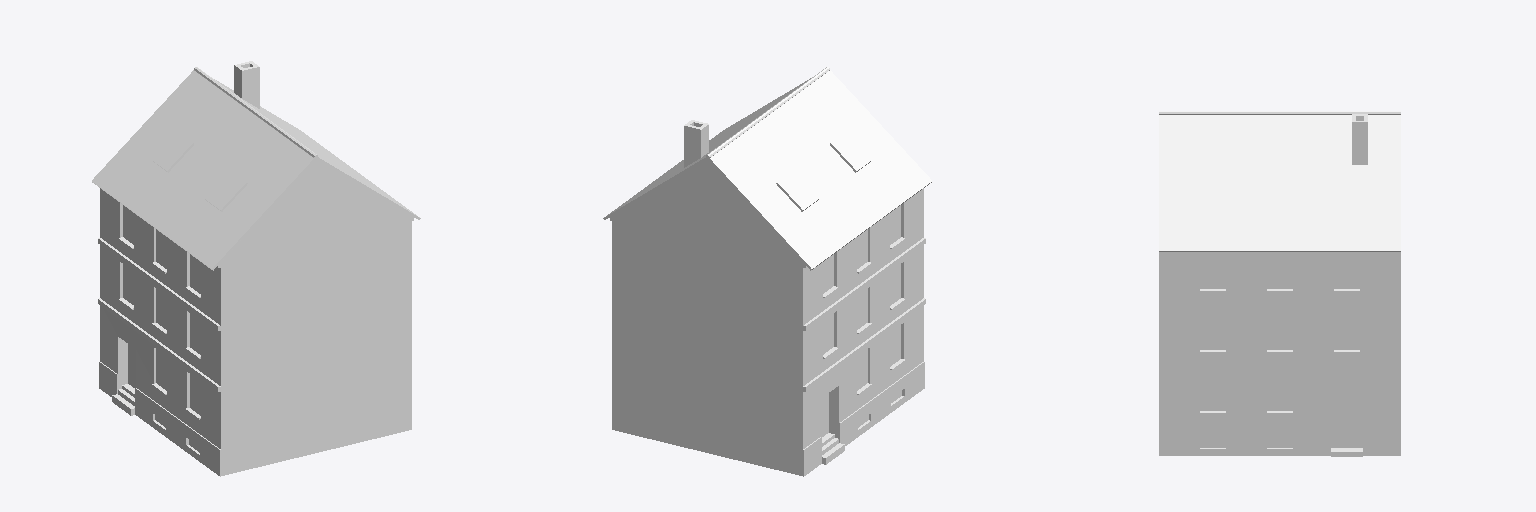
Rendered from apartmentC.obj.
3 views of the same model, side by side, from view 1: azimuth 30°, elevation 25°; view 2: azimuth 150°, elevation 25°; view 3: azimuth 270°, elevation 25° (orthographic).
Parts seen in each view (by area): view 1: Default; view 2: Default; view 3: Default.
Boxes of the visible parts, <box> form: Default: <box>92,61,420,476</box>; Default: <box>603,67,931,476</box>; Default: <box>1159,111,1400,456</box>.
Bounding box in the file's own units: 9 × 12.6 × 9.